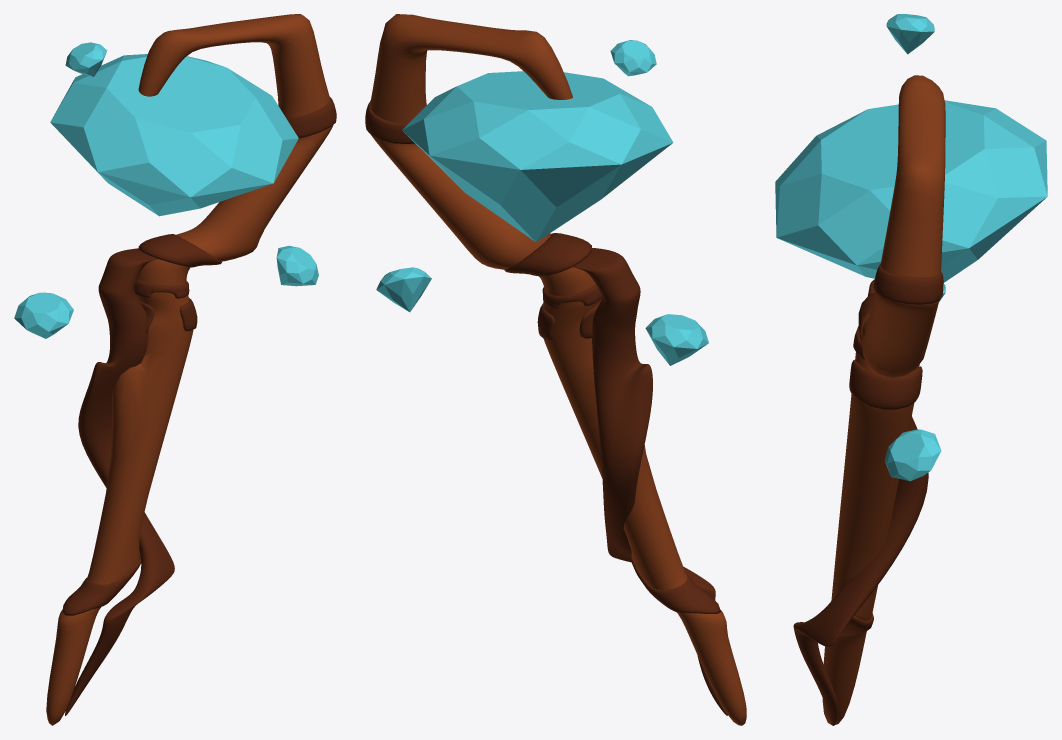
Rendered from MagicWand.glb.
3 renders of one model, left to right at view 1: azimuth 30°, elevation 25°; view 2: azimuth 150°, elevation 25°; view 3: azimuth 270°, elevation 25°, orthographic. The views are drawn at different scales.
Parts seen in each view (by area): view 1: Cube.003, Gem.001, Cube.001, Cube.004, Gem.002, Cube.009, Gem.003, Gem.004; view 2: Cube.003, Gem.001, Cube.001, Cube.004, Gem.002, Cube.009, Gem.003, Gem.004; view 3: Gem.001, Cube.003, Cube.001, Cube.004, Gem.003, Gem.004.
Part boxes in pixels (x1=…): Cube.003: x1=46, y1=14, x2=333, y2=725; Gem.001: x1=50, y1=54, x2=298, y2=216; Cube.001: x1=65, y1=248, x2=174, y2=715; Cube.004: x1=134, y1=97, x2=336, y2=332; Gem.002: x1=14, y1=292, x2=73, y2=338; Cube.009: x1=62, y1=557, x2=141, y2=615; Gem.003: x1=276, y1=245, x2=318, y2=286; Gem.004: x1=65, y1=42, x2=107, y2=76; Cube.003: x1=370, y1=14, x2=746, y2=725; Gem.001: x1=402, y1=71, x2=673, y2=241; Cube.001: x1=572, y1=248, x2=727, y2=715; Cube.004: x1=365, y1=101, x2=601, y2=340; Gem.002: x1=645, y1=314, x2=708, y2=365; Cube.009: x1=630, y1=554, x2=720, y2=613; Gem.003: x1=376, y1=267, x2=431, y2=312; Gem.004: x1=610, y1=40, x2=656, y2=76; Gem.001: x1=775, y1=100, x2=1047, y2=282; Cube.003: x1=822, y1=75, x2=945, y2=725; Cube.001: x1=793, y1=279, x2=928, y2=725; Cube.004: x1=849, y1=264, x2=943, y2=409; Gem.003: x1=884, y1=429, x2=941, y2=481; Gem.004: x1=886, y1=14, x2=934, y2=54.
Bounding box in the file's own units: 0.4024 × 0.7762 × 0.2552.
